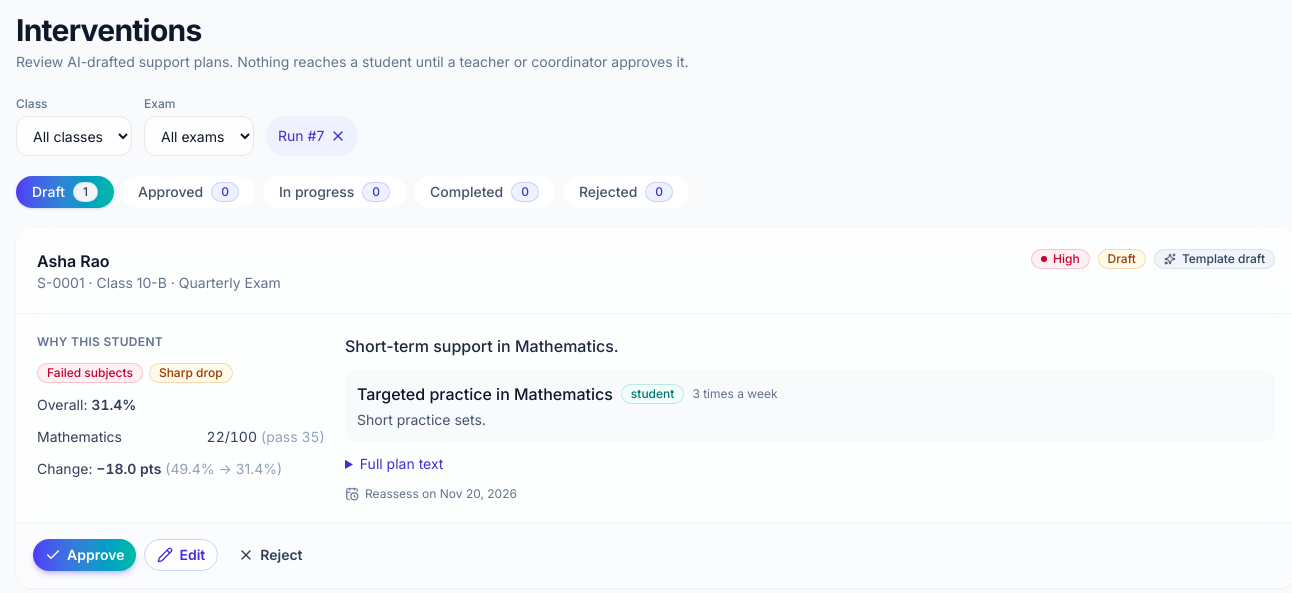
Test: InterventionsPage › approves a draft through the service and refreshes the queue
Expected: the link "Asha Rao" is shown, [37,251,110,271]
What coordinates should you click on to do the following:
click the button "Approve"
I would click on:
 (85, 555)
Its box is [33,539,136,571].
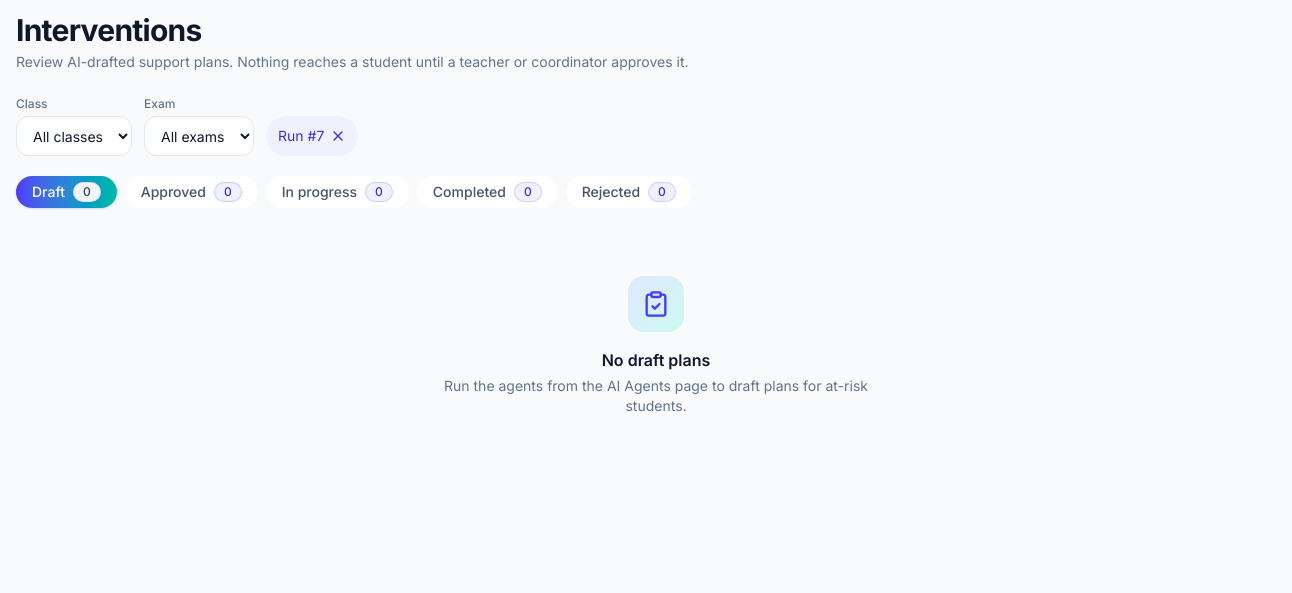
Expected: the heading "No draft plans" is shown, [602,348,710,372]
